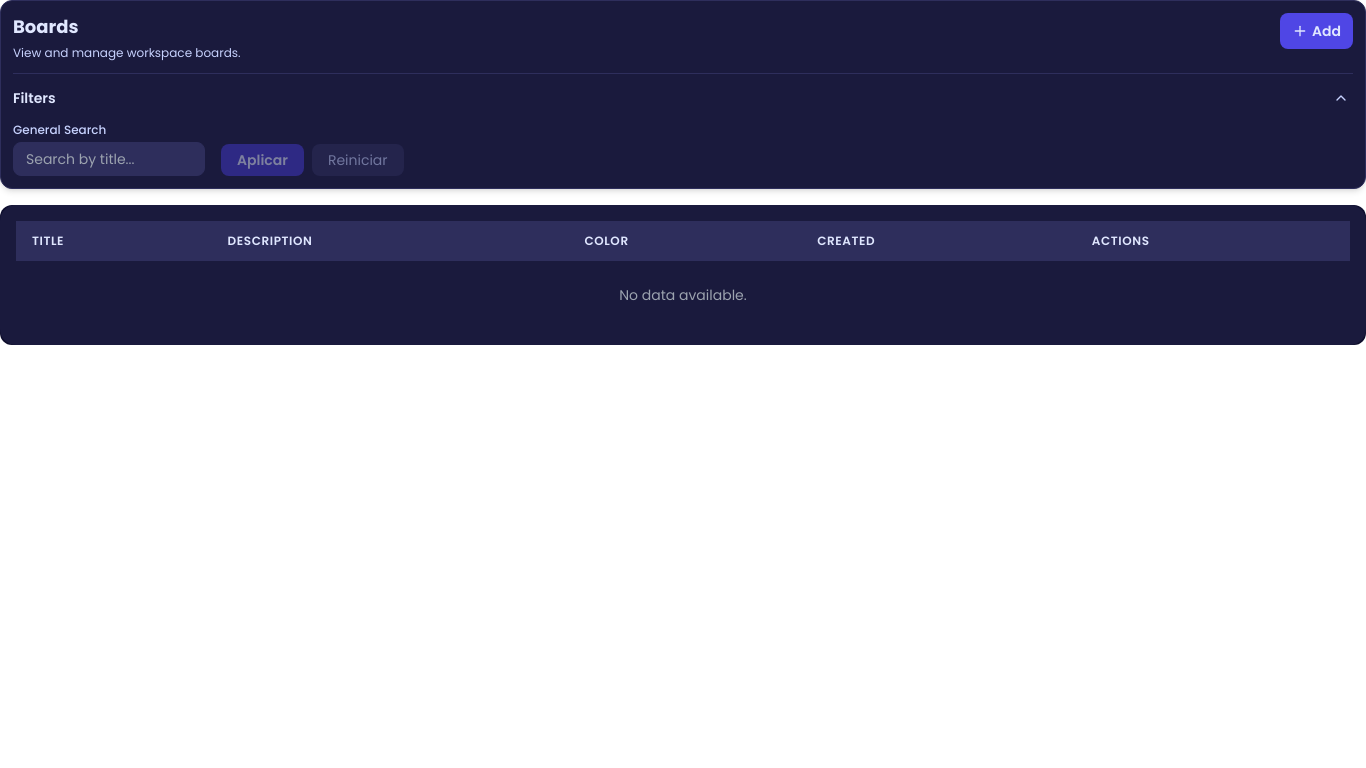
Test: BoardsManager Component › abre el modal al hacer clic en Add
Click the button "Add" at (1316, 31), box x1=1280 y1=13 x2=1353 y2=49
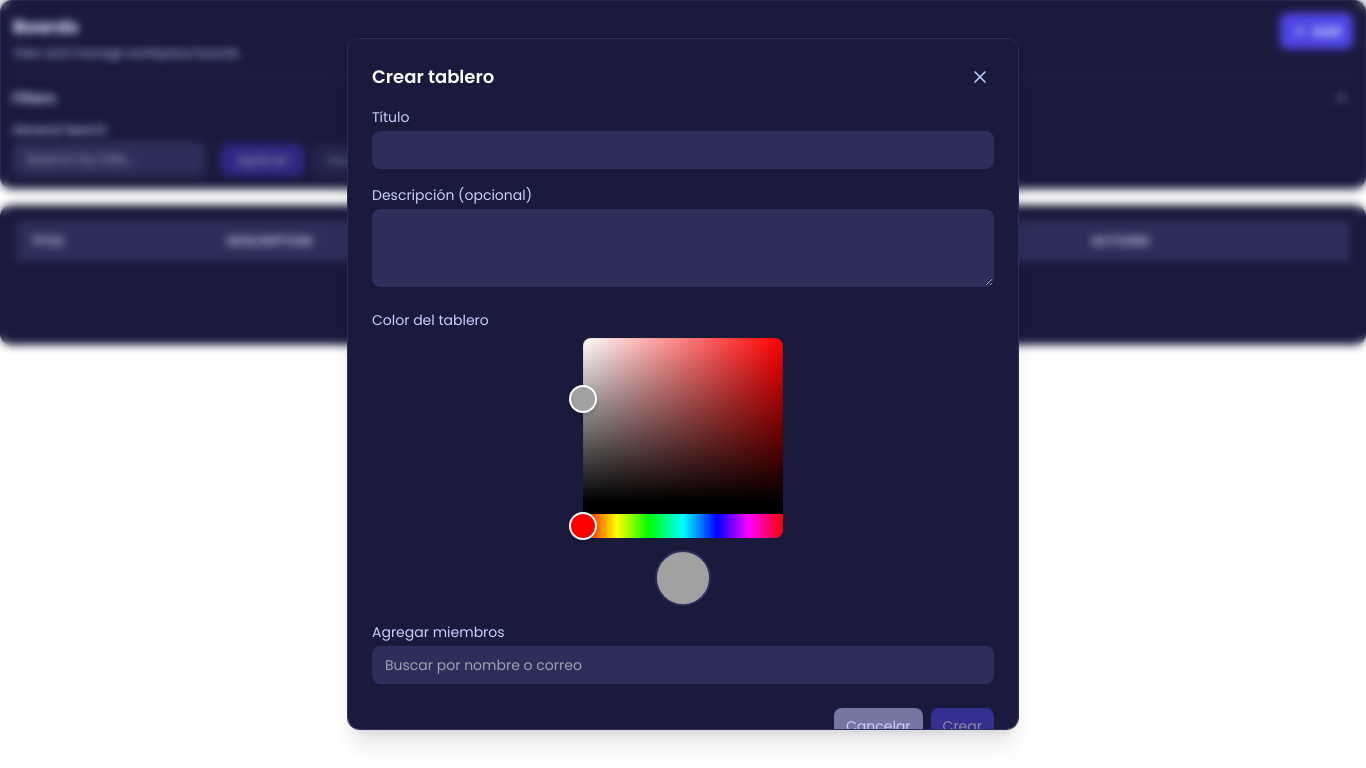
Expected: the heading "Crear tablero" is shown, x1=372 y1=63 x2=494 y2=91
